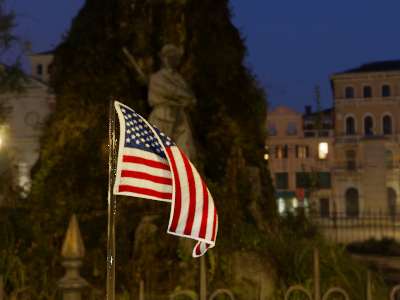America flag: (114, 99, 221, 259)
